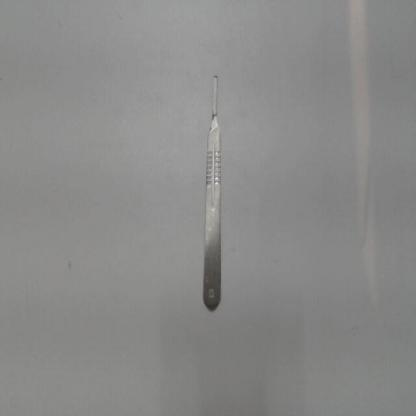No.4 BP Handle: (196, 65, 230, 320)
